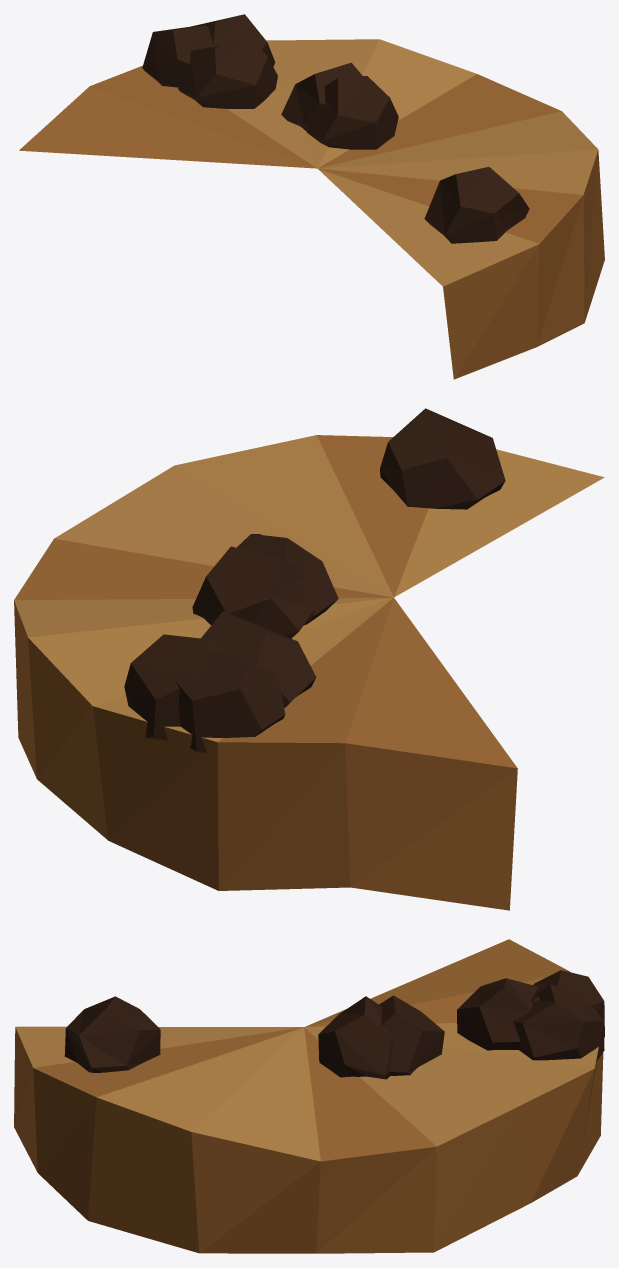
File: food-cookie.glb
3 renders of one model, top to bottom at view 1: azimuth 30°, elevation 25°; view 2: azimuth 150°, elevation 25°; view 3: azimuth 270°, elevation 25°, orthographic. The views are drawn at different scales.
Bounding box in the file's own units: 2.3 × 0.8329 × 2.6.
